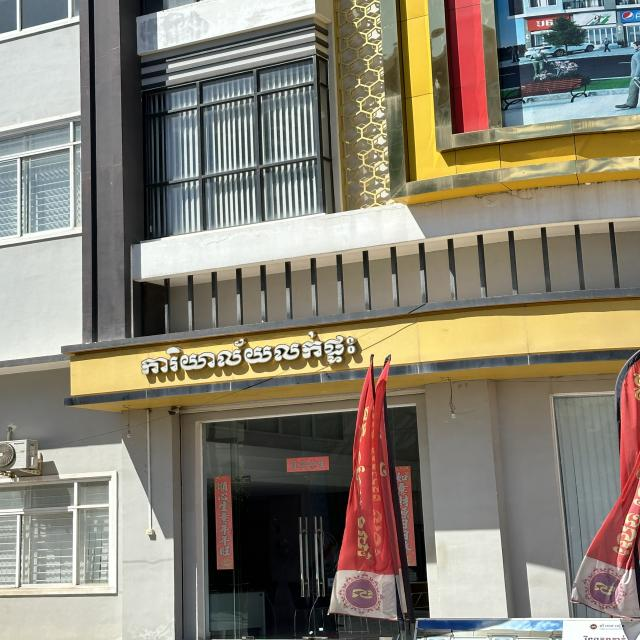Yolov11_80vkh: (132, 326, 364, 383)
